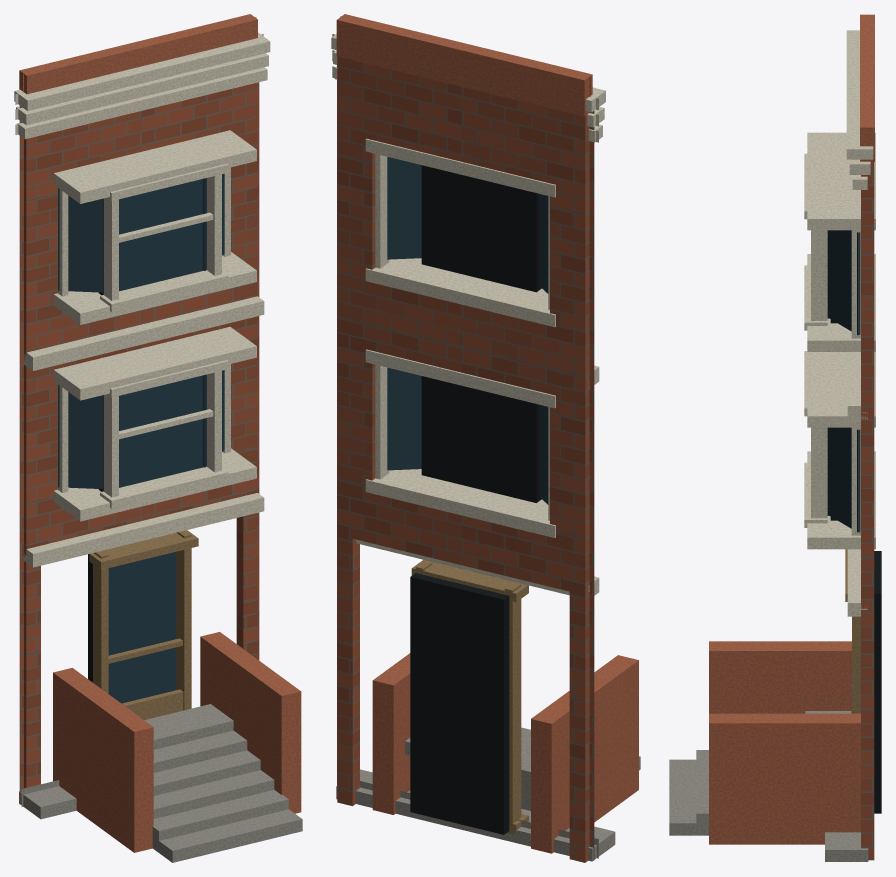
The model's file is VICT25_lod2.glb.
3 renders of one model, left to right at view 1: azimuth 30°, elevation 25°; view 2: azimuth 150°, elevation 25°; view 3: azimuth 270°, elevation 25°, orthographic. The views are drawn at different scales.
Visible parts, largest first — view 1: VICT25_FRONT_LOD2; view 2: VICT25_FRONT_LOD2; view 3: VICT25_FRONT_LOD2.
Boxes of the visible parts, <box> form: VICT25_FRONT_LOD2: <box>14,14,302,862</box>; VICT25_FRONT_LOD2: <box>331,14,640,862</box>; VICT25_FRONT_LOD2: <box>669,14,881,861</box>.
Size of the model in its own units: 3.44 by 9.66 by 2.54.
Materials: 8 (6 with a texture image).
